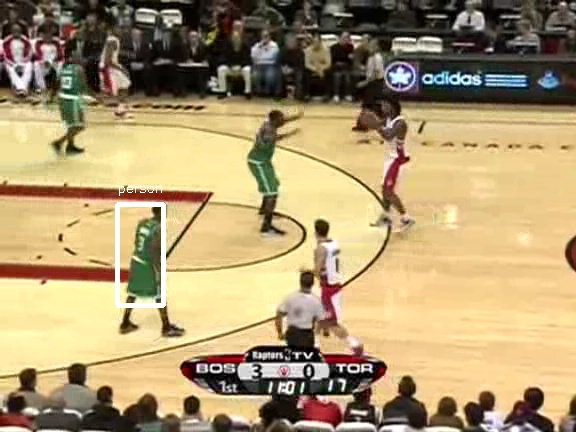person: (129, 217, 163, 298), (128, 217, 162, 298), (130, 217, 164, 298), (129, 216, 163, 297), (129, 218, 163, 299)
target_negative: (101, 74, 465, 167), (59, 123, 115, 289), (557, 36, 571, 413), (507, 37, 553, 83), (500, 363, 544, 390), (347, 388, 369, 418)
